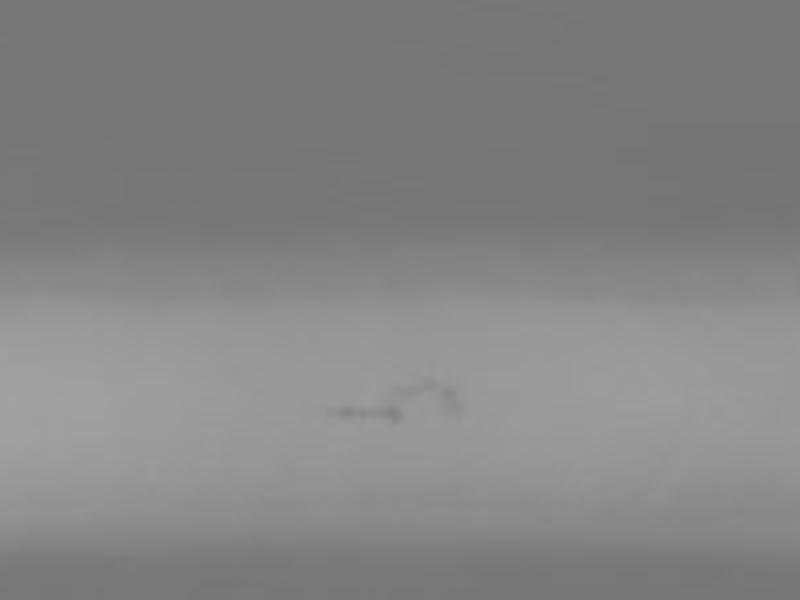defect: (439, 383, 464, 417), (360, 406, 401, 425), (395, 386, 420, 402), (337, 402, 355, 418), (418, 375, 433, 390)
